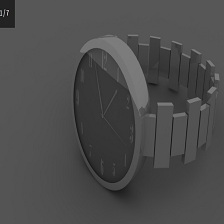Watch: (48, 11, 210, 197)
